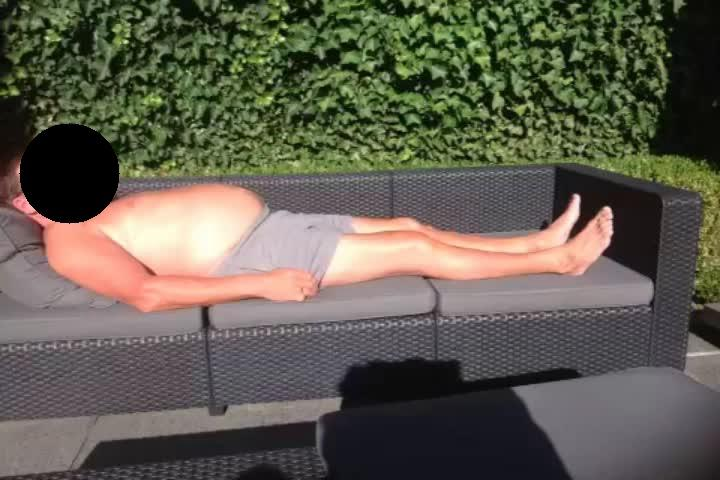lower_body: (241, 192, 616, 288)
